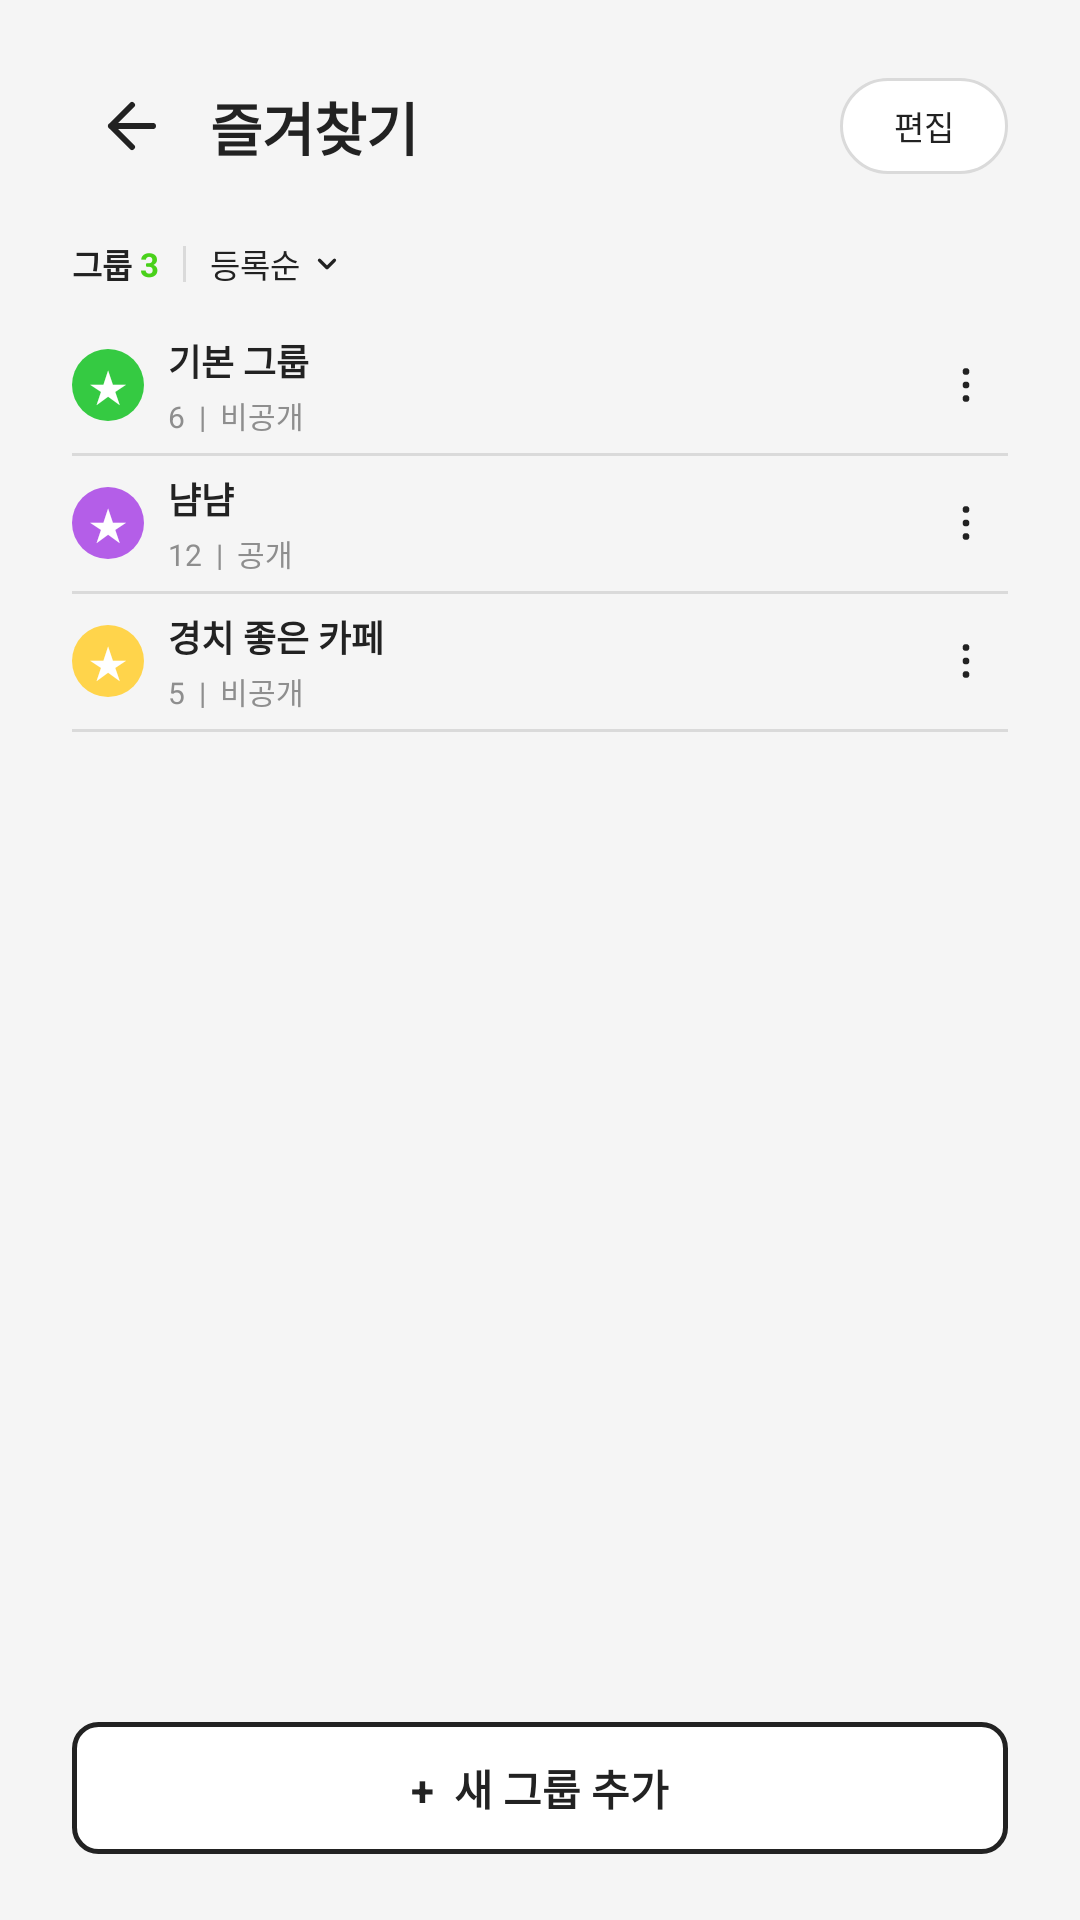

Locate icon controls on the screen. Image size 1080 x 1920, boxes as {"left": x1, "top": y1, "right": x2, "bottom": y2}.
더보기: {"left": 962, "top": 368, "right": 970, "bottom": 402}, {"left": 962, "top": 506, "right": 970, "bottom": 540}, {"left": 962, "top": 644, "right": 970, "bottom": 678}
뒤로가기: {"left": 108, "top": 102, "right": 156, "bottom": 150}
